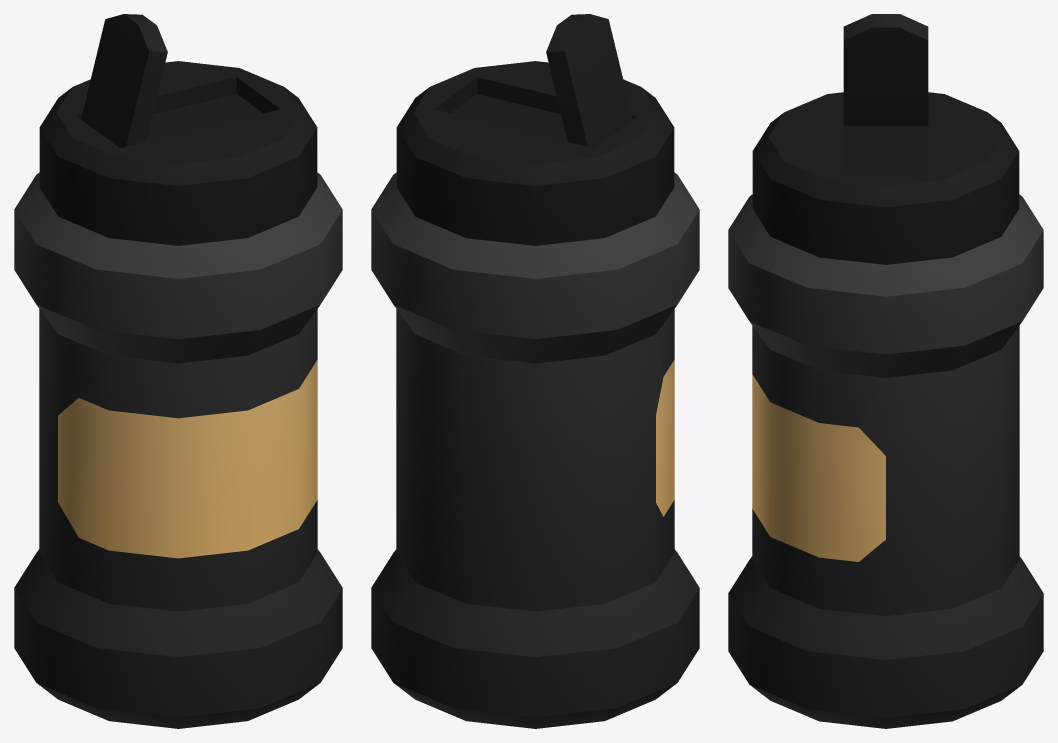
Rendered from Spice_Jar_03.fbx.
The picture shows the model from 3 angles, left to right: view 1: azimuth 30°, elevation 25°; view 2: azimuth 150°, elevation 25°; view 3: azimuth 270°, elevation 25°; orthographic projection. The views are drawn at different scales.
Parts seen in each view (by area): view 1: Spice_Jar_03; view 2: Spice_Jar_03; view 3: Spice_Jar_03.
Boxes of the visible parts, <box> form: Spice_Jar_03: <box>14,14,342,728</box>; Spice_Jar_03: <box>371,14,699,728</box>; Spice_Jar_03: <box>728,14,1043,728</box>.
Bounding box in the file's own units: 16.41 × 36.52 × 16.41.
